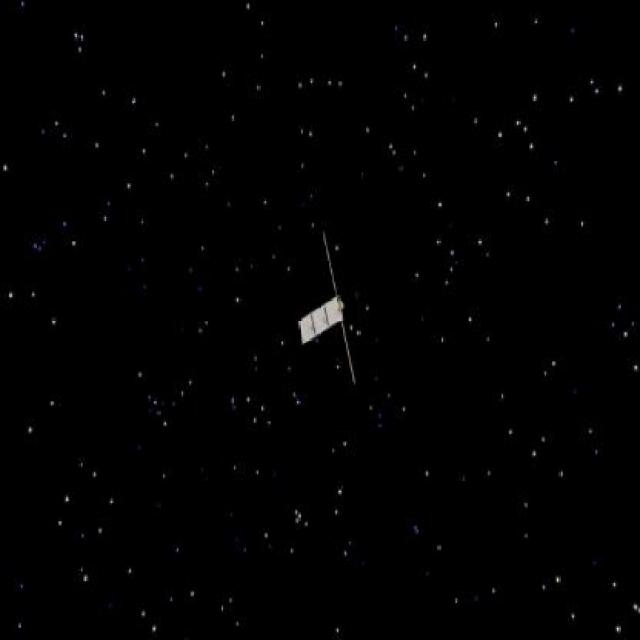medium_debris: (287, 225, 371, 388)
